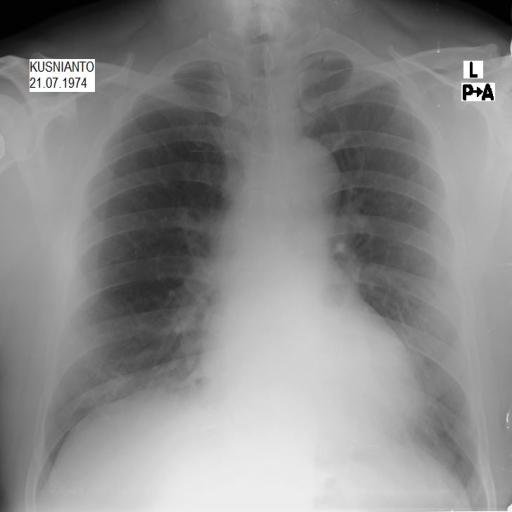kardiomegali: (24, 29, 498, 494)
